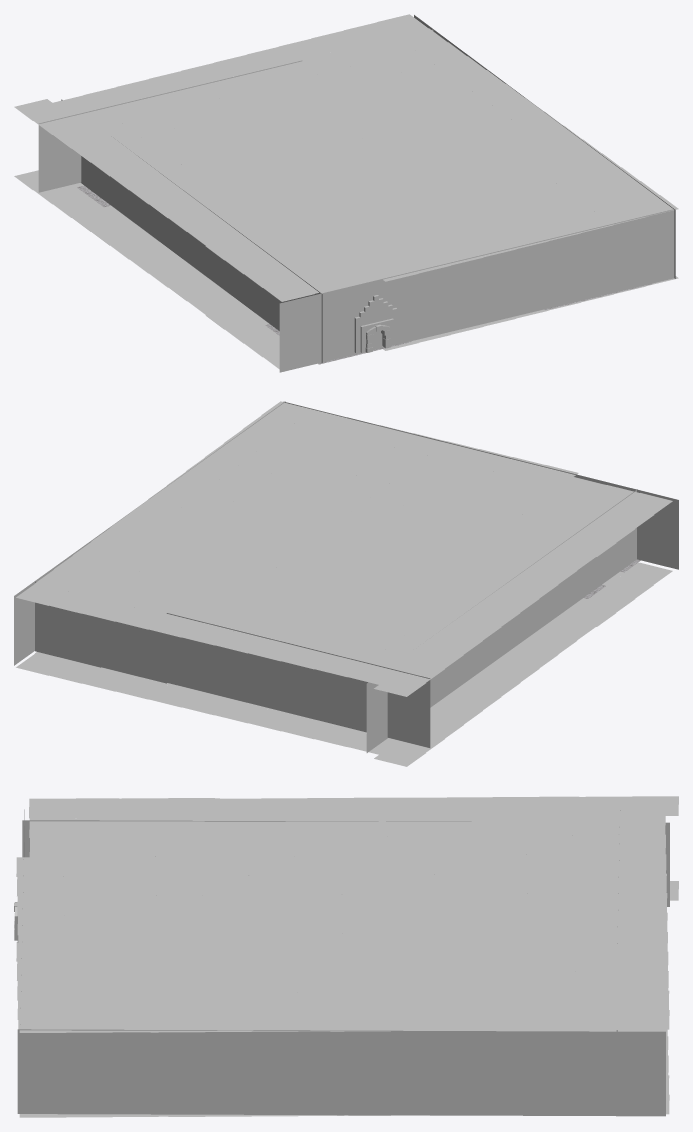
Rendered from ground4.FBX.
3 renders of one model, top to bottom at view 1: azimuth 30°, elevation 25°; view 2: azimuth 150°, elevation 25°; view 3: azimuth 270°, elevation 25°, orthographic. The views are drawn at different scales.
Visible parts, largest first — view 1: Wall Tile 4x029, Wall Tile 4x031, Wall Tile 4x028, Wall Tile 4x026, Wall Tile 4x027, Wall Tile 4x030, Wall Tile 4x010, Gate 3, Wall Tile 4x006, Wall Tile 4x007, Wall Tile 4x009, Wall Tile 4x008 (+179 smaller); view 2: Wall Tile 4x022, Wall Tile 4x020, Wall Tile 4x021, Wall Tile 4x019, Wall Tile 4x024, Wall Tile 4x010, Wall Tile 4x029, Wall Tile 4x012, Wall Tile 4x011, Wall Tile 4x005, Wall Tile 4x4, Wall Tile 4x007 (+190 smaller); view 3: Wall Tile 4x012, Wall Tile 4x014, Wall Tile 4x016, Wall Tile 4x013, Wall Tile 4x017, Wall Tile 4x015, Wall Tile 4x018, Ground + Flat Bright 8x276, Ground + Flat Bright 8x343, Ground + Flat Bright 8x349, Ground + Flat Bright 8x232, Ground + Flat Bright 8x225 (+163 smaller).
Part boxes in pixels (x1=…): Wall Tile 4x029: x1=279, y1=288, x2=345, y2=372; Wall Tile 4x031: x1=609, y1=209, x2=675, y2=293; Wall Tile 4x028: x1=477, y1=240, x2=543, y2=325; Wall Tile 4x026: x1=543, y1=225, x2=608, y2=309; Wall Tile 4x027: x1=411, y1=256, x2=477, y2=340; Wall Tile 4x030: x1=345, y1=272, x2=411, y2=356; Wall Tile 4x010: x1=38, y1=108, x2=104, y2=192; Gate 3: x1=354, y1=295, x2=397, y2=352; Wall Tile 4x006: x1=173, y1=183, x2=210, y2=278; Wall Tile 4x007: x1=210, y1=210, x2=247, y2=306; Wall Tile 4x009: x1=135, y1=156, x2=172, y2=251; Wall Tile 4x008: x1=98, y1=168, x2=135, y2=223; Wall Tile 4x022: x1=232, y1=629, x2=298, y2=715; Wall Tile 4x020: x1=298, y1=645, x2=363, y2=731; Wall Tile 4x021: x1=166, y1=613, x2=232, y2=698; Wall Tile 4x019: x1=35, y1=581, x2=101, y2=667; Wall Tile 4x024: x1=101, y1=618, x2=166, y2=683; Wall Tile 4x010: x1=364, y1=662, x2=430, y2=747; Wall Tile 4x029: x1=612, y1=483, x2=678, y2=569; Wall Tile 4x012: x1=14, y1=568, x2=52, y2=665; Wall Tile 4x011: x1=366, y1=682, x2=387, y2=752; Wall Tile 4x005: x1=560, y1=517, x2=598, y2=614; Wall Tile 4x4: x1=599, y1=489, x2=637, y2=586; Wall Tile 4x007: x1=521, y1=545, x2=559, y2=642; Wall Tile 4x012: x1=572, y1=1031, x2=665, y2=1116; Wall Tile 4x014: x1=479, y1=1031, x2=572, y2=1115; Wall Tile 4x016: x1=295, y1=1030, x2=387, y2=1115; Wall Tile 4x013: x1=387, y1=1030, x2=480, y2=1115; Wall Tile 4x017: x1=17, y1=1029, x2=110, y2=1114; Wall Tile 4x015: x1=202, y1=1030, x2=295, y2=1114; Wall Tile 4x018: x1=110, y1=1029, x2=202, y2=1114; Ground + Flat Bright 8x276: x1=585, y1=796, x2=632, y2=816; Ground + Flat Bright 8x343: x1=529, y1=1010, x2=576, y2=1030; Ground + Flat Bright 8x349: x1=622, y1=990, x2=669, y2=1010; Ground + Flat Bright 8x232: x1=343, y1=972, x2=390, y2=992; Ground + Flat Bright 8x225: x1=619, y1=834, x2=665, y2=854.
Size of the model in its own units: 192 by 228 by 32.8.
